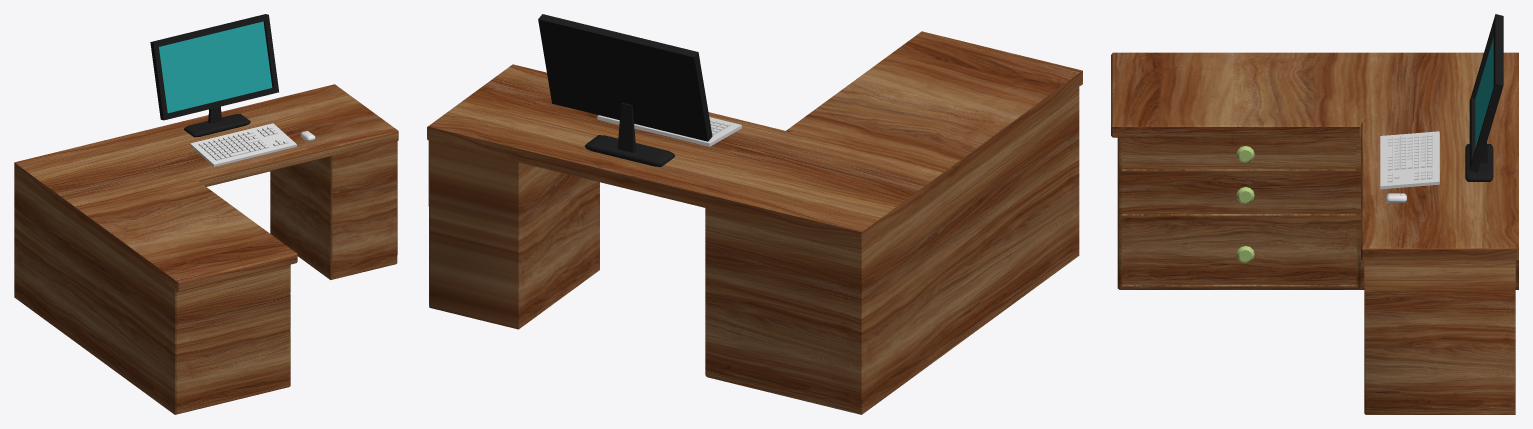
File: DeskWithComputer.FBX
3 renders of one model, left to right at view 1: azimuth 30°, elevation 25°; view 2: azimuth 150°, elevation 25°; view 3: azimuth 270°, elevation 25°, orthographic. The views are drawn at different scales.
Parts seen in each view (by area): view 1: Desk, Moniter, Box001, ComputerStand; view 2: Desk, Moniter, ComputerStand, Box001; view 3: Desk, Moniter, Box001, ComputerStand.
Part boxes in pixels (x1,y1,x2,y2): Desk: [14, 84, 398, 414]; Moniter: [150, 14, 278, 120]; Box001: [190, 123, 296, 166]; ComputerStand: [184, 106, 250, 137]; Desk: [427, 31, 1082, 414]; Moniter: [538, 14, 712, 141]; ComputerStand: [584, 102, 674, 166]; Box001: [597, 115, 741, 146]; Desk: [1111, 52, 1518, 414]; Moniter: [1469, 14, 1503, 172]; Box001: [1380, 131, 1439, 189]; ComputerStand: [1465, 142, 1493, 181].
Bounding box in the file's own units: 69.75 × 47.55 × 61.58.
